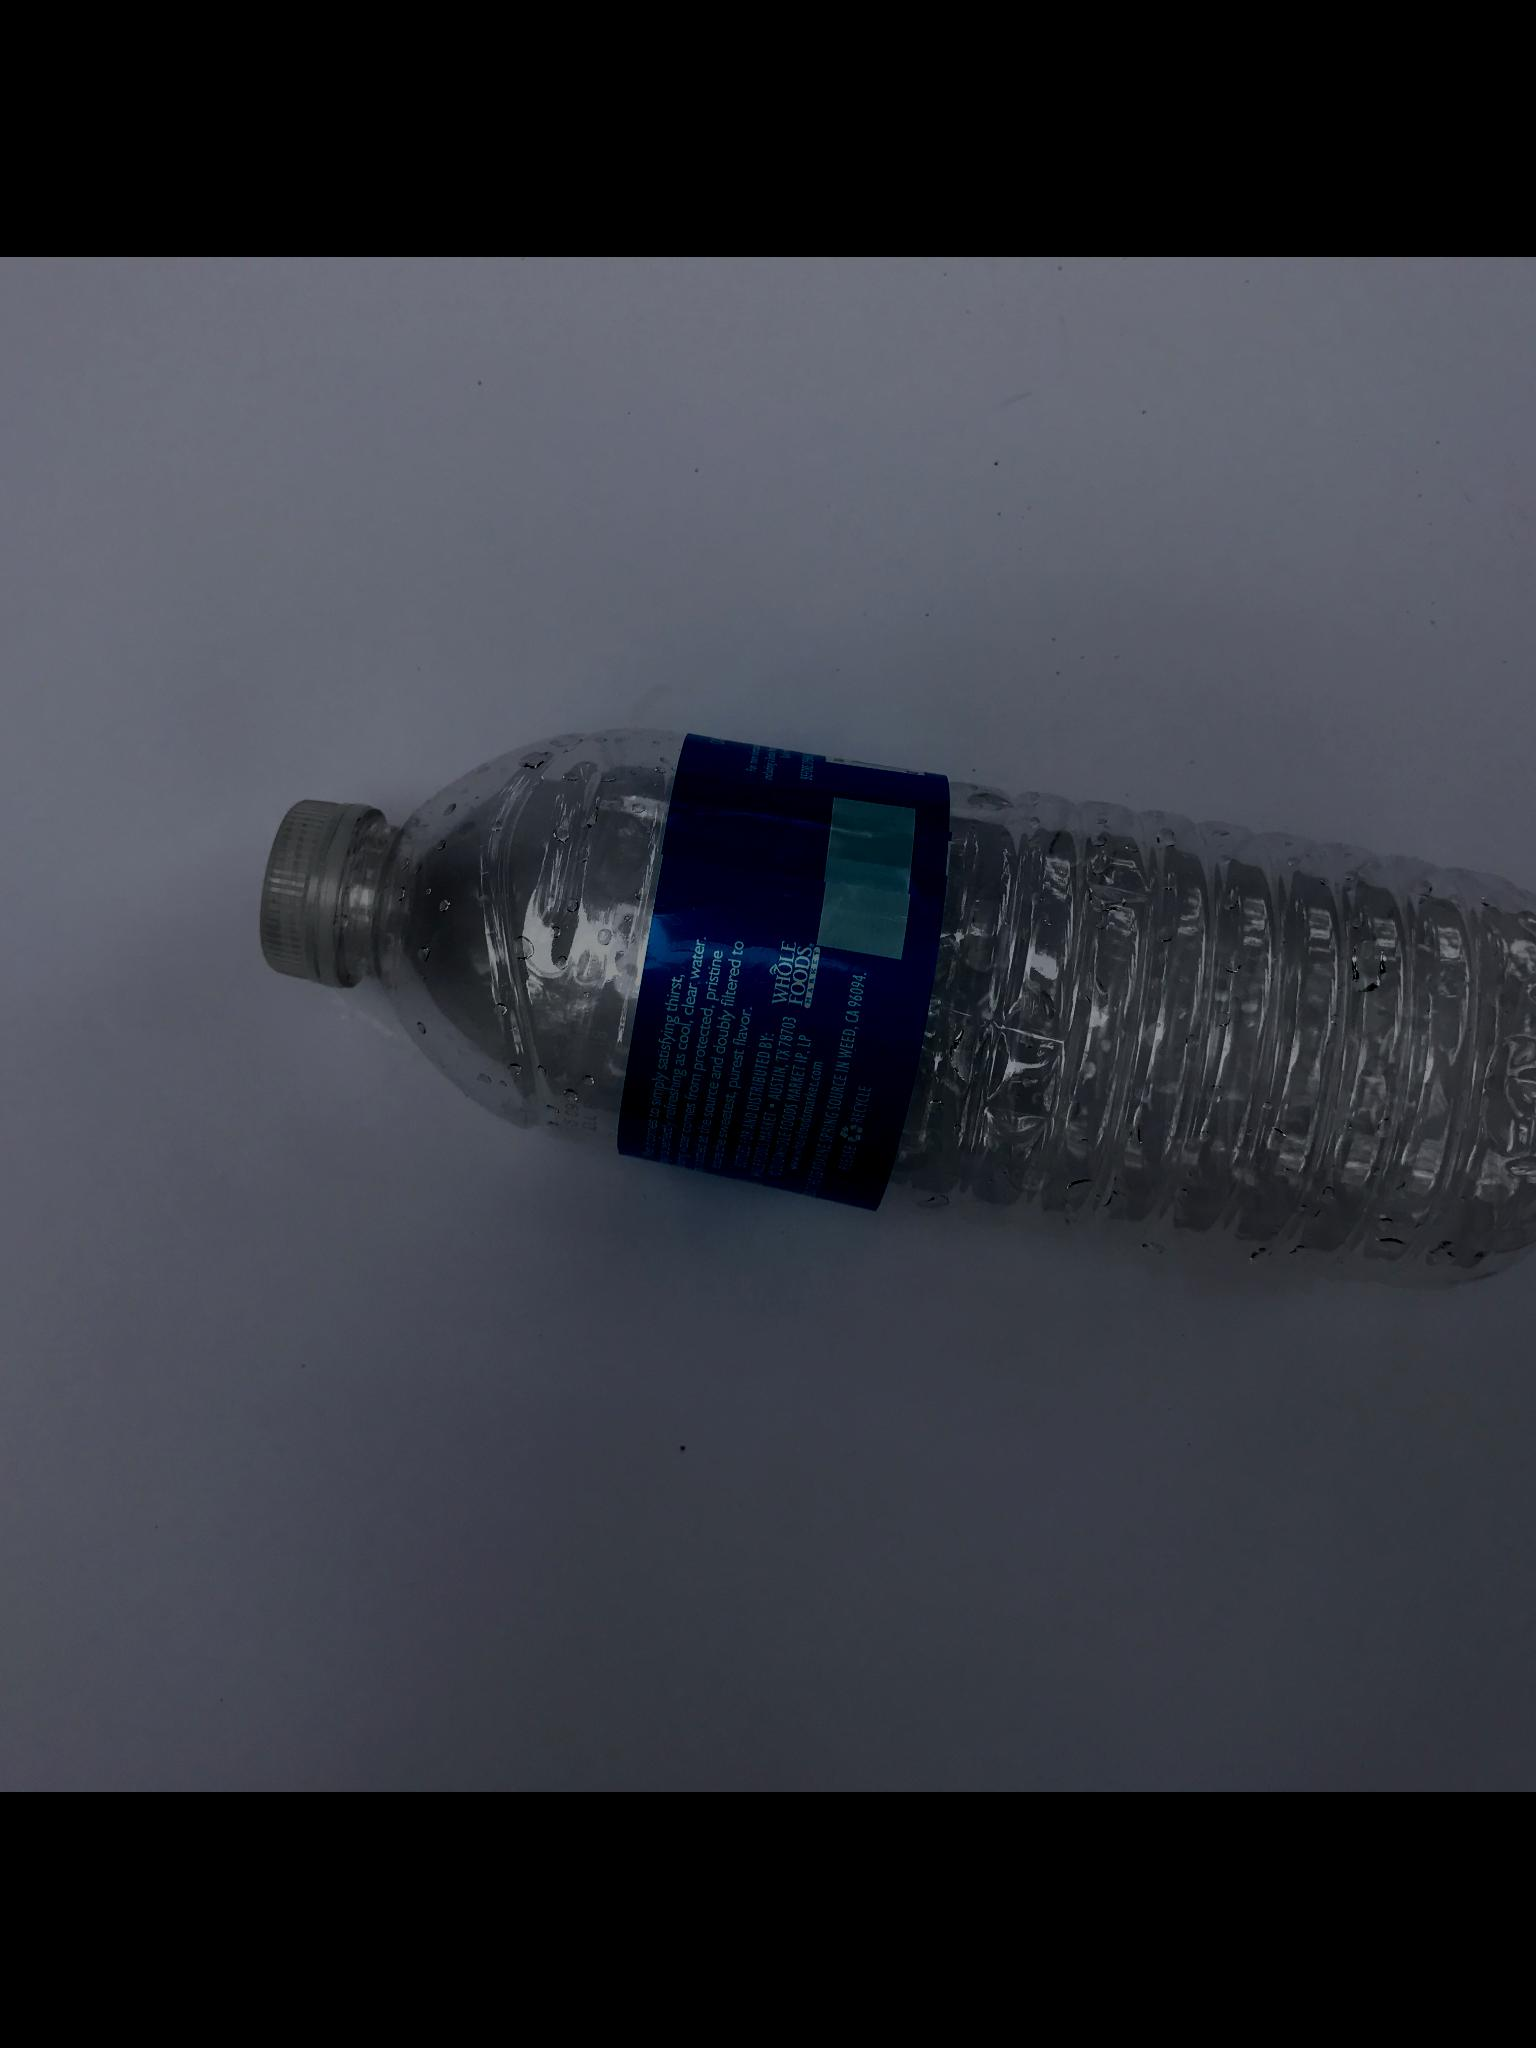Plastic: (231, 711, 1534, 1314)
